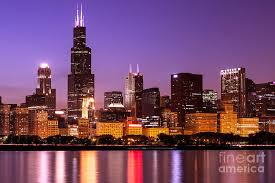willis: (65, 2, 96, 98)
